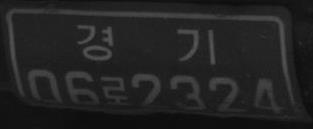0: (26, 68, 63, 104)
2: (208, 74, 248, 114), (132, 71, 166, 110)
3: (169, 73, 207, 112)
4: (251, 76, 284, 115)
6: (63, 69, 100, 108)
경기_D: (75, 22, 216, 66)
로: (100, 74, 131, 108)
